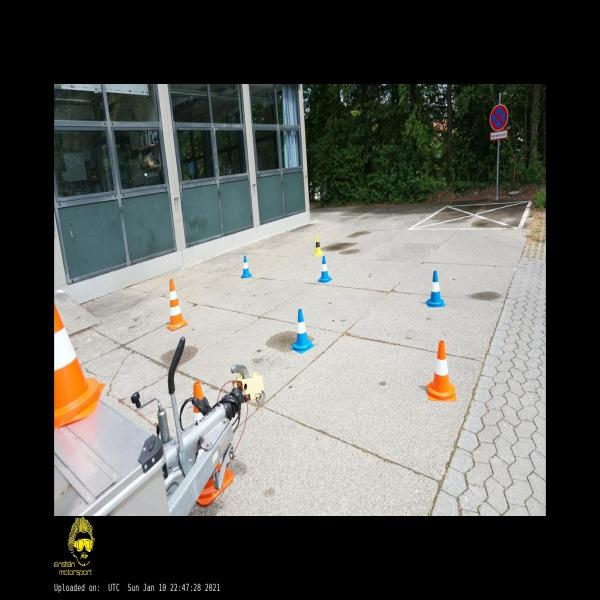blue_cone: (290, 309, 314, 353), (426, 270, 445, 307), (318, 256, 332, 283), (240, 256, 252, 278)
large_orange_cone: (194, 382, 233, 506), (166, 278, 188, 330)
orange_cone: (54, 303, 105, 429), (427, 341, 456, 401)
yellow_cone: (313, 235, 323, 256)
